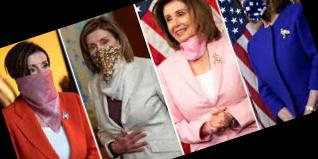mask_weared_incorrect: (164, 5, 203, 53)
with_mask: (86, 33, 122, 65), (25, 56, 55, 87), (235, 1, 266, 14)
